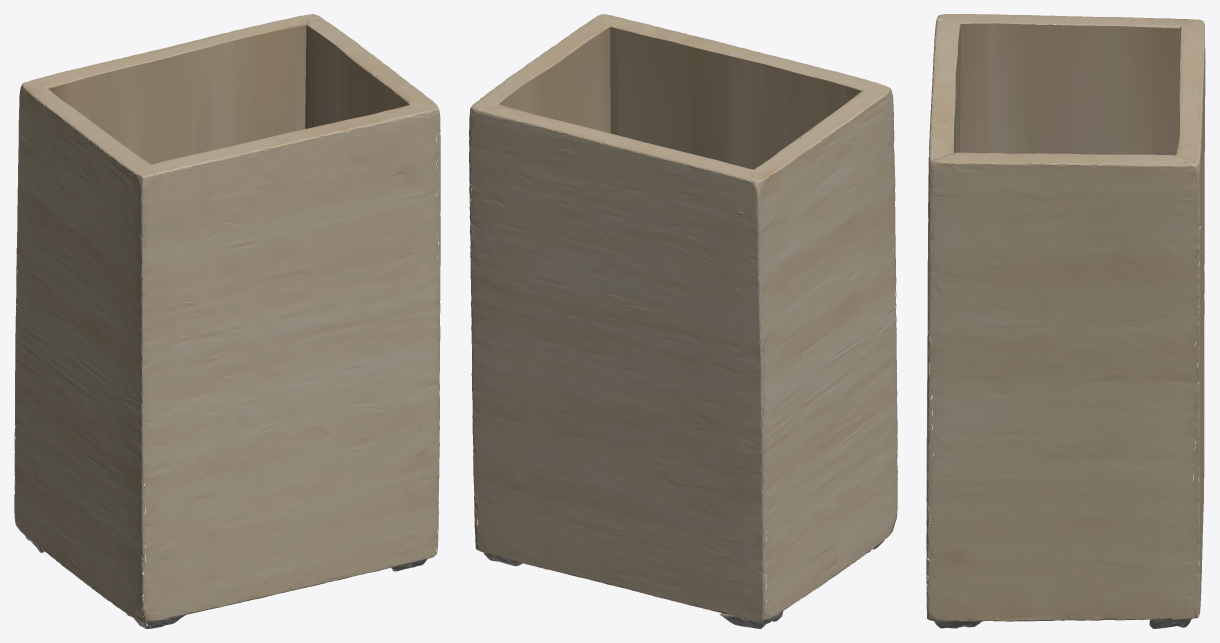
3 views of the same model, side by side, from view 1: azimuth 30°, elevation 25°; view 2: azimuth 150°, elevation 25°; view 3: azimuth 270°, elevation 25° (orthographic). The views are drawn at different scales.
Visible parts, largest first — view 1: geometry_0; view 2: geometry_0; view 3: geometry_0.
Boxes of the visible parts, box(x1,y1,x2,y2) form: geometry_0: box(14, 14, 440, 628); geometry_0: box(469, 14, 897, 628); geometry_0: box(926, 14, 1205, 628).
Bounding box in the file's own units: 0.0856 × 0.1236 × 0.0659.
